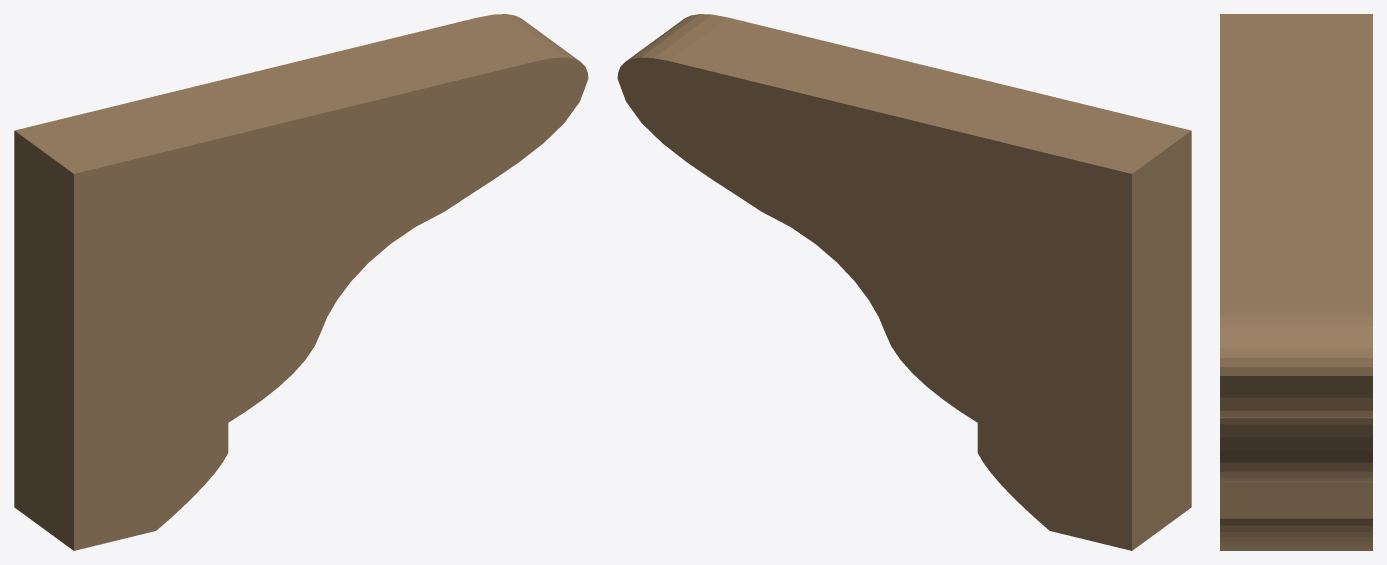
The model's file is timber_corbel.glb.
3 views of the same model, side by side, from view 1: azimuth 30°, elevation 25°; view 2: azimuth 150°, elevation 25°; view 3: azimuth 270°, elevation 25° (orthographic). The views are drawn at different scales.
Visible parts, largest first — view 1: Timber_Corbel; view 2: Timber_Corbel; view 3: Timber_Corbel.
Part boxes in pixels (x1,y1,x2,y2): Timber_Corbel: (14, 14, 588, 550); Timber_Corbel: (617, 14, 1191, 550); Timber_Corbel: (1220, 14, 1372, 550).
Size of the model in its own units: 0.6 by 0.42 by 0.12.
